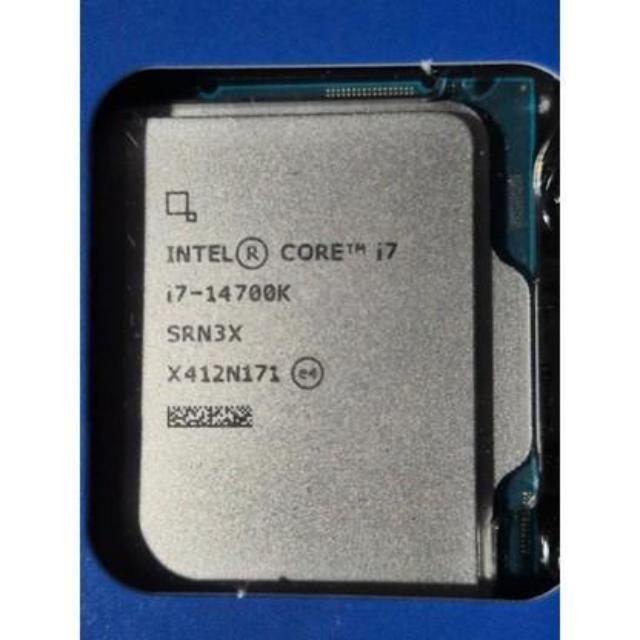CPU: (127, 100, 505, 594)
